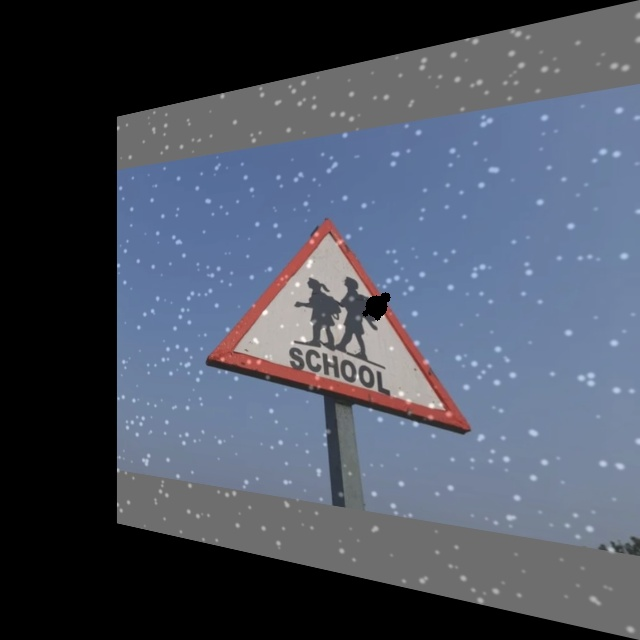School_Ahead: (229, 205, 454, 429)
